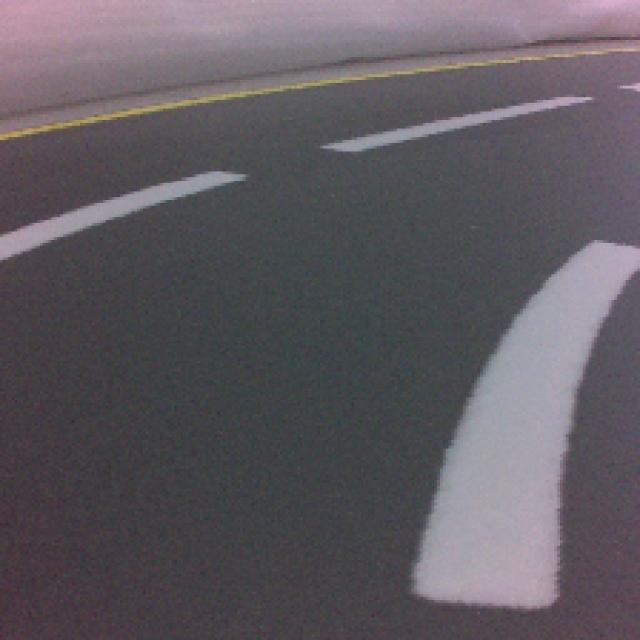Road: (0, 299, 412, 638)
